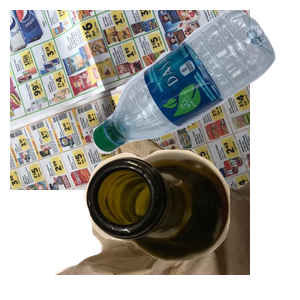glass: (82, 147, 300, 300)
paper: (10, 10, 250, 190)
plastic: (90, 10, 300, 156)
trash: (52, 120, 292, 300)
